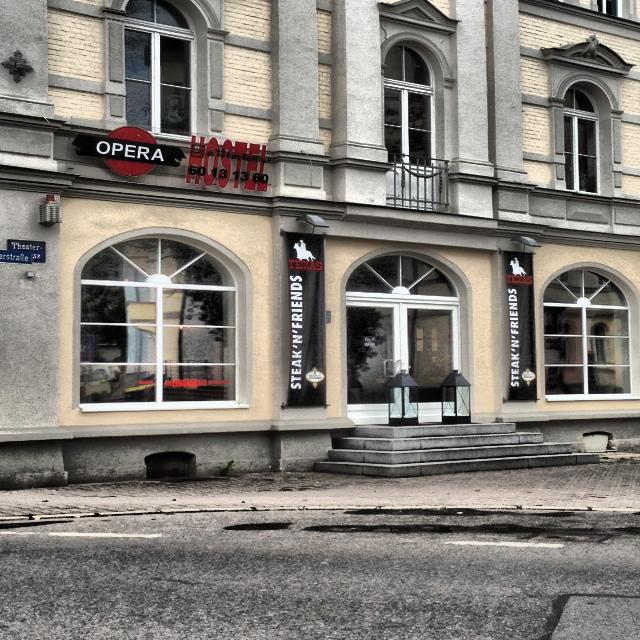escada: (308, 425, 608, 479)
